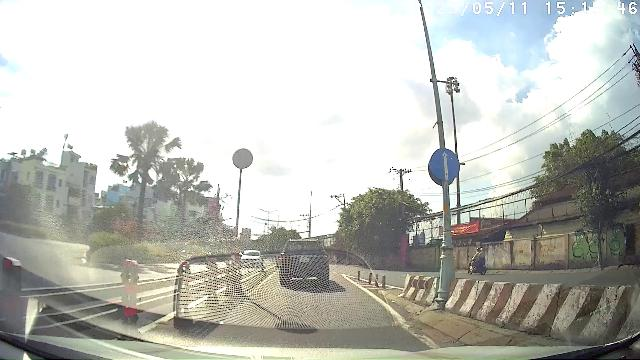301a-cac-xe-chi-duoc-di-thang: (429, 148, 460, 181)
